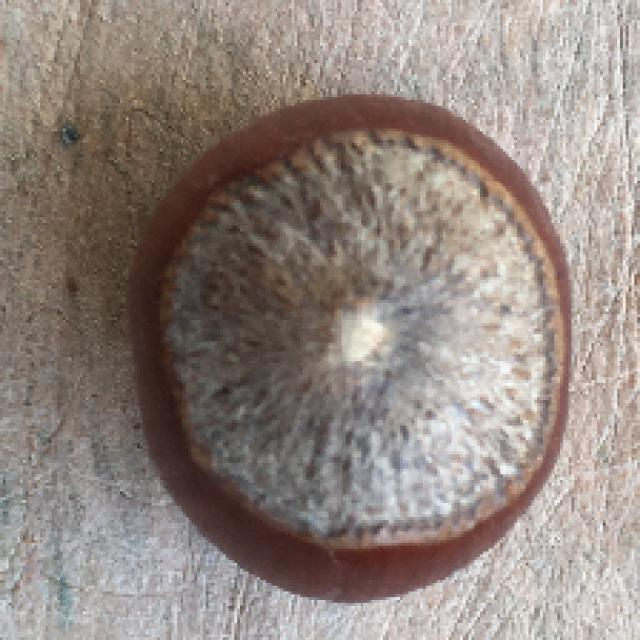qualityHazelnut: (123, 82, 584, 610)
